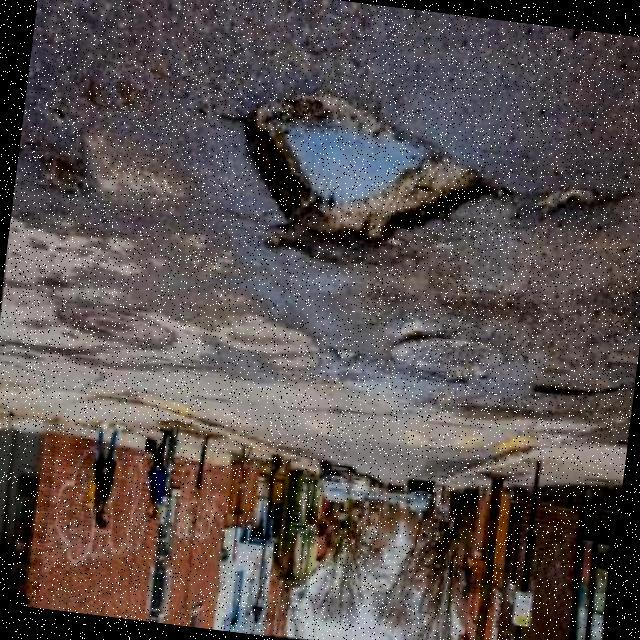Pothole: (247, 93, 608, 263)
